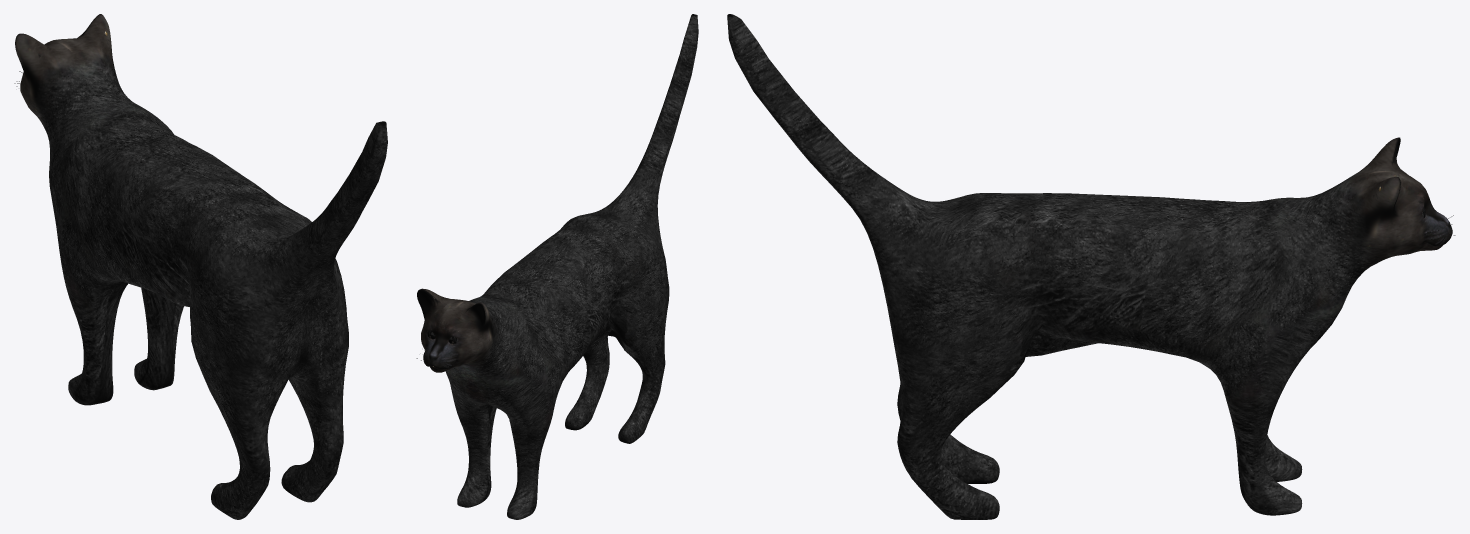
Rendered from cat_model.obj.
The picture shows the model from 3 angles, left to right: view 1: azimuth 30°, elevation 25°; view 2: azimuth 150°, elevation 25°; view 3: azimuth 270°, elevation 25°; orthographic projection. The views are drawn at different scales.
Visible parts, largest first — view 1: Cube_Cube_001; view 2: Cube_Cube_001; view 3: Cube_Cube_001.
Part boxes in pixels (<box>): Cube_Cube_001: <box>15,14,387,519</box>; Cube_Cube_001: <box>417,14,698,519</box>; Cube_Cube_001: <box>727,14,1452,519</box>.
Bounding box in the file's own units: 1.43 × 5.01 × 6.83.
Materials: 1 (1 with a texture image).
